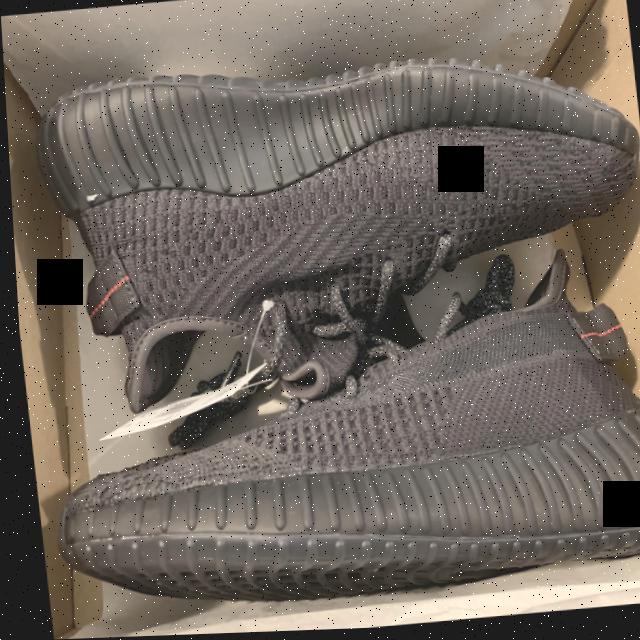shoes: (13, 264, 640, 640), (16, 0, 640, 364)
